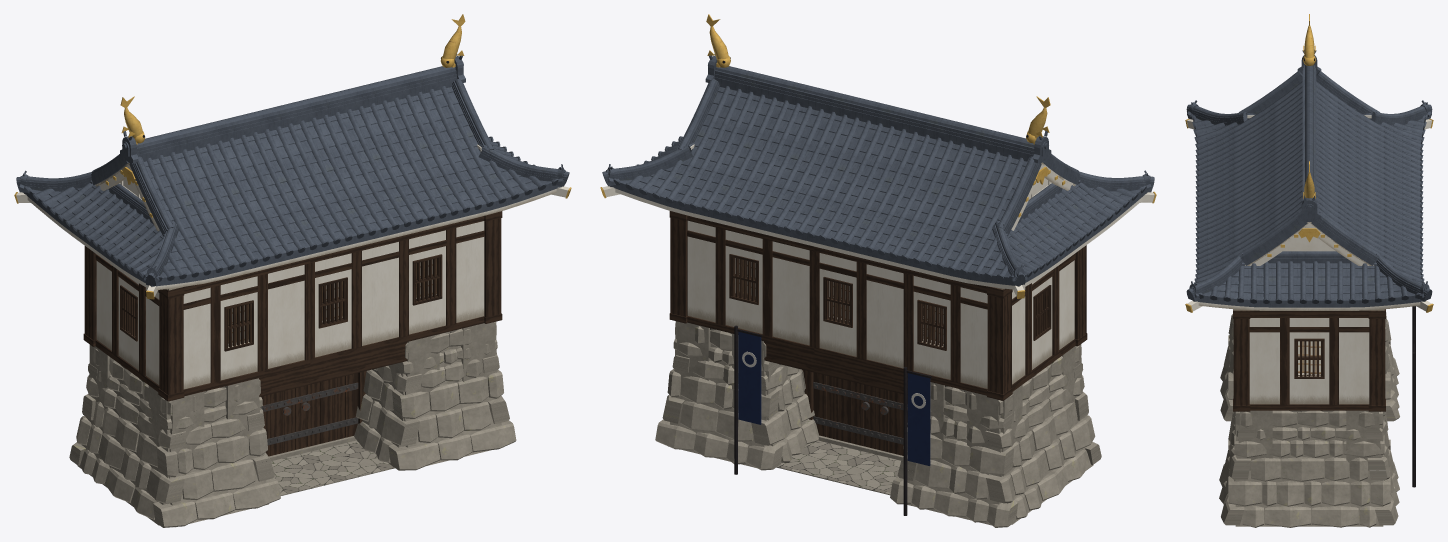
File: HO_Castle_Gatehouse.fbx
3 views of the same model, side by side, from view 1: azimuth 30°, elevation 25°; view 2: azimuth 150°, elevation 25°; view 3: azimuth 270°, elevation 25° (orthographic). The views are drawn at different scales.
Visible parts, largest first — view 1: HO_Castle_Gatehouse_RoofTiles, HO_Castle_Gatehouse_Base__Stone_Granite, HO_Castle_Gatehouse_Upper__Timber_Dark, HO_Castle_Gatehouse_Upper__Plaster_White, HO_Castle_Gatehouse_Structure__Stone_Fitted, HO_Castle_Gatehouse_RoofFrame__Plaster_White, HO_Castle_Gatehouse_Structure__Timber_Dark, HO_Castle_Gatehouse_Door2__Timber_Dark, HO_Castle_Gatehouse_RoofFrame__Gold_Leaf, HO_Castle_Gatehouse_Door1__Timber_Dark, HO_Castle_Gatehouse_Door2__Iron_Wrought; view 2: HO_Castle_Gatehouse_RoofTiles, HO_Castle_Gatehouse_Base__Stone_Granite, HO_Castle_Gatehouse_Upper__Timber_Dark, HO_Castle_Gatehouse_Upper__Plaster_White, HO_Castle_Gatehouse_Banners__Cloth_Navy, HO_Castle_Gatehouse_Structure__Stone_Fitted, HO_Castle_Gatehouse_RoofFrame__Plaster_White, HO_Castle_Gatehouse_Door2__Timber_Dark, HO_Castle_Gatehouse_Structure__Timber_Dark, HO_Castle_Gatehouse_RoofFrame__Gold_Leaf, HO_Castle_Gatehouse_Banners__Black_Lacquer, HO_Castle_Gatehouse_Door1__Timber_Dark (+1 smaller); view 3: HO_Castle_Gatehouse_RoofTiles, HO_Castle_Gatehouse_Base__Stone_Granite, HO_Castle_Gatehouse_Upper__Timber_Dark, HO_Castle_Gatehouse_Upper__Plaster_White, HO_Castle_Gatehouse_RoofFrame__Plaster_White, HO_Castle_Gatehouse_RoofFrame__Gold_Leaf, HO_Castle_Gatehouse_Banners__Black_Lacquer, HO_Castle_Gatehouse_Upper__Shoji_Paper.
Part boxes in pixels (bbox=[...]): HO_Castle_Gatehouse_RoofTiles: bbox=[16, 54, 569, 286]; HO_Castle_Gatehouse_Base__Stone_Granite: bbox=[69, 321, 516, 527]; HO_Castle_Gatehouse_Upper__Timber_Dark: bbox=[83, 211, 502, 401]; HO_Castle_Gatehouse_Upper__Plaster_White: bbox=[96, 221, 484, 389]; HO_Castle_Gatehouse_Structure__Stone_Fitted: bbox=[271, 440, 394, 495]; HO_Castle_Gatehouse_RoofFrame__Plaster_White: bbox=[16, 144, 569, 296]; HO_Castle_Gatehouse_Structure__Timber_Dark: bbox=[259, 342, 407, 423]; HO_Castle_Gatehouse_Door2__Timber_Dark: bbox=[295, 373, 357, 449]; HO_Castle_Gatehouse_RoofFrame__Gold_Leaf: bbox=[14, 14, 571, 299]; HO_Castle_Gatehouse_Door1__Timber_Dark: bbox=[261, 388, 294, 456]; HO_Castle_Gatehouse_Door2__Iron_Wrought: bbox=[295, 382, 358, 438]; HO_Castle_Gatehouse_RoofTiles: bbox=[602, 54, 1154, 286]; HO_Castle_Gatehouse_Base__Stone_Granite: bbox=[655, 321, 1101, 527]; HO_Castle_Gatehouse_Upper__Timber_Dark: bbox=[669, 211, 1087, 400]; HO_Castle_Gatehouse_Upper__Plaster_White: bbox=[687, 220, 1074, 388]; HO_Castle_Gatehouse_Banners__Cloth_Navy: bbox=[738, 331, 930, 465]; HO_Castle_Gatehouse_Structure__Stone_Fitted: bbox=[776, 440, 900, 495]; HO_Castle_Gatehouse_RoofFrame__Plaster_White: bbox=[602, 144, 1154, 296]; HO_Castle_Gatehouse_Door2__Timber_Dark: bbox=[814, 372, 876, 449]; HO_Castle_Gatehouse_Structure__Timber_Dark: bbox=[764, 341, 907, 419]; HO_Castle_Gatehouse_RoofFrame__Gold_Leaf: bbox=[600, 14, 1156, 298]; HO_Castle_Gatehouse_Banners__Black_Lacquer: bbox=[734, 325, 931, 515]; HO_Castle_Gatehouse_Door1__Timber_Dark: bbox=[876, 388, 907, 455]; HO_Castle_Gatehouse_RoofTiles: bbox=[1186, 50, 1432, 307]; HO_Castle_Gatehouse_Base__Stone_Granite: bbox=[1219, 312, 1399, 527]; HO_Castle_Gatehouse_Upper__Timber_Dark: bbox=[1233, 309, 1385, 411]; HO_Castle_Gatehouse_Upper__Plaster_White: bbox=[1249, 318, 1369, 404]; HO_Castle_Gatehouse_RoofFrame__Plaster_White: bbox=[1187, 115, 1431, 311]; HO_Castle_Gatehouse_RoofFrame__Gold_Leaf: bbox=[1185, 14, 1433, 312]; HO_Castle_Gatehouse_Banners__Black_Lacquer: bbox=[1412, 306, 1415, 487]; HO_Castle_Gatehouse_Upper__Shoji_Paper: bbox=[1298, 341, 1320, 372].
Size of the model in its own units: 36.17 by 32.29 by 20.17.
